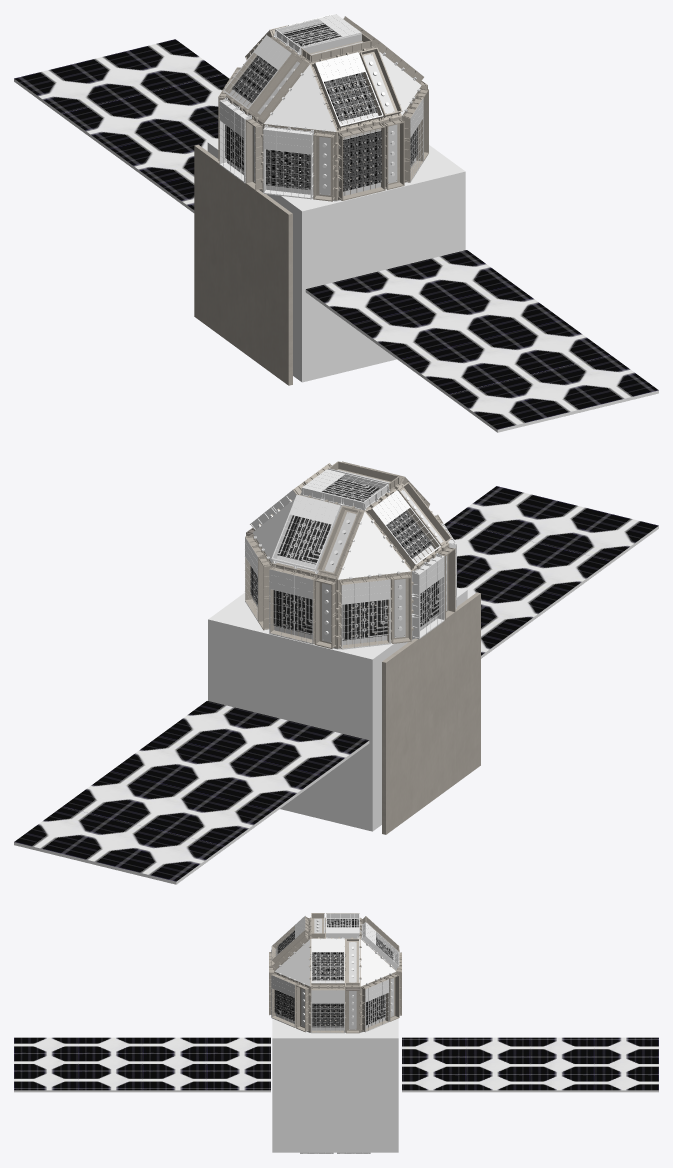
File: Mukifd.glb
3 renders of one model, top to bottom at view 1: azimuth 30°, elevation 25°; view 2: azimuth 150°, elevation 25°; view 3: azimuth 270°, elevation 25°, orthographic. The views are drawn at different scales.
Parts seen in each view (by area): view 1: Bus_100x3\Boss-Extrude1, RadiatorPlate_1000x1000_noholes\Boss-Extrude1, Solar panel\SOLAR PANEL10\Solid (11).003, Solar panel\SOLAR PANEL9\Solid (11), Solar panel\SOLAR PANEL11\Solid (11).001, Solar panel\SOLAR PANEL5\Solid (11), Solar panel\SOLAR PANEL9\Solid (11).001, Solar panel\SOLAR PANEL10\Solid (11), Solar panel\SOLAR PANEL10\Solid (11).001, Solar panel\SOLAR PANEL10\Solid (11).002, Solar panel\SOLAR PANEL6\Solid (11), Solar panel\SOLAR PANEL11\Solid (11) (+34 smaller); view 2: Bus_100x3\Boss-Extrude1, RadiatorPlate_1000x1000_noholes\Boss-Extrude1, Solar panel\SOLAR PANEL9\Solid (11).001, Solar panel\SOLAR PANEL9\Solid (11).003, Solar panel\SOLAR PANEL10\Solid (11).002, Solar panel\SOLAR PANEL10\Solid (11).003, Solar panel\SOLAR PANEL11\Solid (11).001, Solar panel\SOLAR PANEL9\Solid (11).002, Solar panel\SOLAR PANEL11\Solid (11).002, Solar panel\SOLAR PANEL4\Solid (11).001, Solar panel\SOLAR PANEL7\Solid (11).001, Solar panel\SOLAR PANEL10\Solid (11).001 (+33 smaller); view 3: Bus_100x3\Boss-Extrude1, Solar panel\SOLAR PANEL9\Solid (11), Solar panel\SOLAR PANEL10\Solid (11), Solar panel\SOLAR PANEL9\Solid (11).002, Solar panel\SOLAR PANEL10\Solid (11).002, Solar panel\SOLAR PANEL4\Solid (11), Solar panel\SOLAR PANEL5\Solid (11), Solar panel\SOLAR PANEL6\Solid (11), Solar panel\SOLAR PANEL7\Solid (11), Solar panel\SOLAR PANEL9\Solid (11).001, Solar panel\SOLAR PANEL10\Solid (11).001, Solar panel\SOLAR PANEL4\Solid (11).001 (+29 smaller).
Boxes of the visible parts, left/top/right/bottom form: Bus_100x3\Boss-Extrude1: left=207, top=140, right=465, bottom=382; RadiatorPlate_1000x1000_noholes\Boss-Extrude1: left=194, top=144, right=292, bottom=385; Solar panel\SOLAR PANEL10\Solid (11).003: left=14, top=65, right=115, bottom=113; Solar panel\SOLAR PANEL9\Solid (11): left=402, top=346, right=502, bottom=394; Solar panel\SOLAR PANEL11\Solid (11).001: left=503, top=368, right=604, bottom=416; Solar panel\SOLAR PANEL5\Solid (11): left=306, top=276, right=406, bottom=324; Solar panel\SOLAR PANEL9\Solid (11).001: left=450, top=381, right=550, bottom=429; Solar panel\SOLAR PANEL10\Solid (11): left=509, top=320, right=610, bottom=368; Solar panel\SOLAR PANEL10\Solid (11).001: left=557, top=355, right=658, bottom=403; Solar panel\SOLAR PANEL10\Solid (11).002: left=62, top=100, right=163, bottom=148; Solar panel\SOLAR PANEL6\Solid (11): left=354, top=311, right=454, bottom=359; Solar panel\SOLAR PANEL11\Solid (11): left=456, top=333, right=556, bottom=381; Bus_100x3\Boss-Extrude1: left=208, top=587, right=467, bottom=831; RadiatorPlate_1000x1000_noholes\Boss-Extrude1: left=382, top=592, right=480, bottom=834; Solar panel\SOLAR PANEL9\Solid (11).001: left=557, top=512, right=658, bottom=560; Solar panel\SOLAR PANEL9\Solid (11).003: left=14, top=806, right=115, bottom=855; Solar panel\SOLAR PANEL10\Solid (11).002: left=171, top=798, right=272, bottom=846; Solar panel\SOLAR PANEL10\Solid (11).003: left=122, top=833, right=223, bottom=881; Solar panel\SOLAR PANEL11\Solid (11).001: left=503, top=499, right=604, bottom=547; Solar panel\SOLAR PANEL9\Solid (11).002: left=63, top=771, right=164, bottom=819; Solar panel\SOLAR PANEL11\Solid (11).002: left=117, top=784, right=218, bottom=832; Solar panel\SOLAR PANEL4\Solid (11).001: left=267, top=727, right=368, bottom=775; Solar panel\SOLAR PANEL7\Solid (11).001: left=219, top=762, right=320, bottom=810; Solar panel\SOLAR PANEL10\Solid (11).001: left=449, top=486, right=550, bottom=534; Bus_100x3\Boss-Extrude1: left=272, top=1018, right=398, bottom=1152; Solar panel\SOLAR PANEL9\Solid (11): left=78, top=1037, right=142, bottom=1055; Solar panel\SOLAR PANEL10\Solid (11): left=78, top=1072, right=142, bottom=1090; Solar panel\SOLAR PANEL9\Solid (11).002: left=530, top=1072, right=594, bottom=1090; Solar panel\SOLAR PANEL10\Solid (11).002: left=530, top=1037, right=594, bottom=1055; Solar panel\SOLAR PANEL4\Solid (11): left=206, top=1072, right=270, bottom=1090; Solar panel\SOLAR PANEL5\Solid (11): left=206, top=1037, right=270, bottom=1055; Solar panel\SOLAR PANEL6\Solid (11): left=142, top=1037, right=206, bottom=1055; Solar panel\SOLAR PANEL7\Solid (11): left=142, top=1072, right=206, bottom=1090; Solar panel\SOLAR PANEL9\Solid (11).001: left=14, top=1037, right=78, bottom=1055; Solar panel\SOLAR PANEL10\Solid (11).001: left=14, top=1072, right=78, bottom=1090; Solar panel\SOLAR PANEL4\Solid (11).001: left=402, top=1037, right=466, bottom=1055.
Size of the model in its own units: 22.18 by 35.89 by 102.
27 materials, 6 textured.
